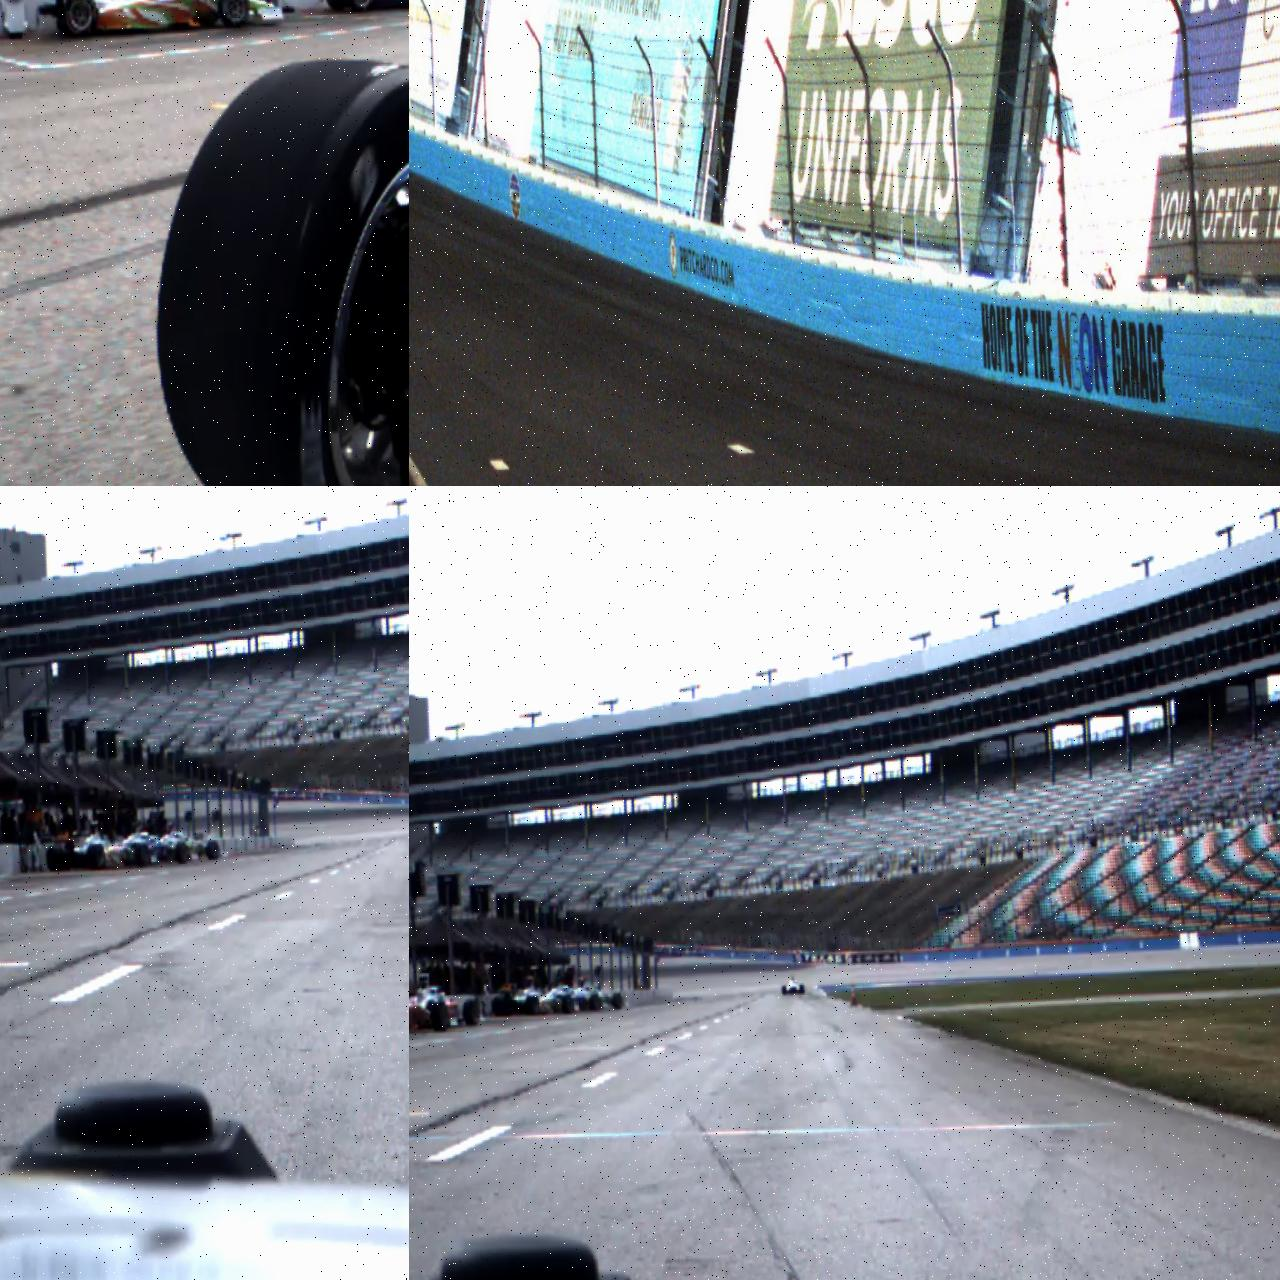AV: (38, 0, 282, 42), (45, 817, 151, 872), (490, 975, 572, 1017), (409, 969, 450, 1036), (781, 975, 804, 995)
Wheel: (147, 53, 409, 486), (57, 0, 98, 40), (219, 0, 248, 28), (429, 1001, 449, 1032), (86, 843, 104, 870), (463, 999, 479, 1027), (46, 844, 61, 872), (135, 843, 150, 867), (349, 0, 374, 12), (175, 842, 188, 864), (205, 839, 219, 859), (525, 994, 539, 1014), (324, 0, 343, 13), (491, 995, 504, 1015), (561, 994, 572, 1014), (590, 993, 600, 1012), (611, 993, 622, 1009), (781, 985, 787, 995), (799, 983, 804, 993)
